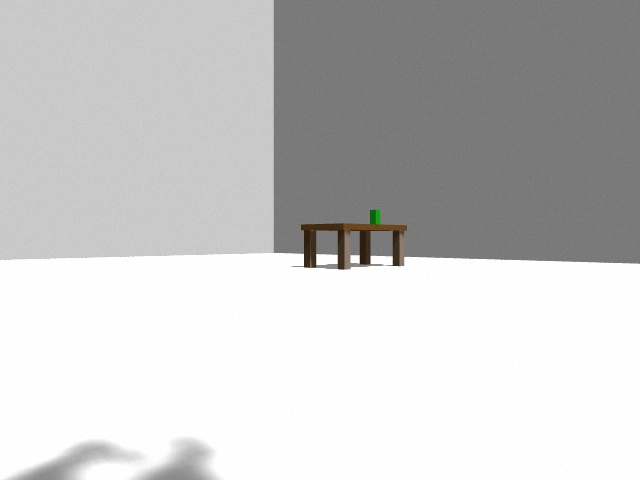green_cube: (370, 210, 380, 224)
